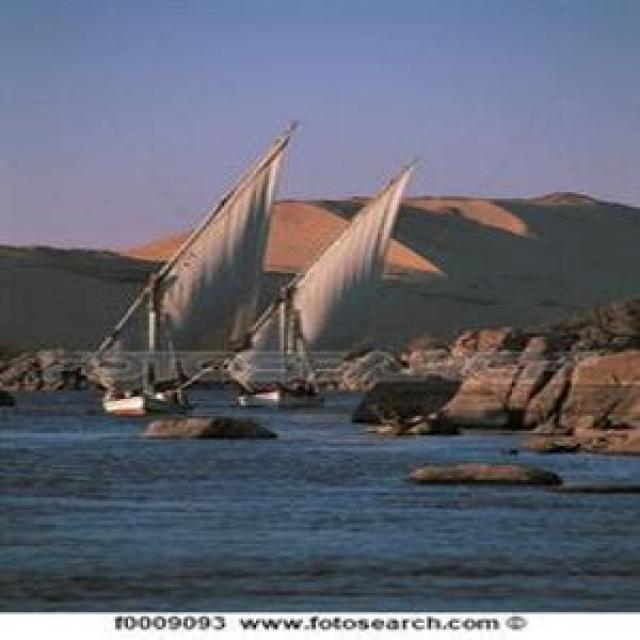sailboat: (78, 127, 266, 412), (232, 174, 386, 422)
